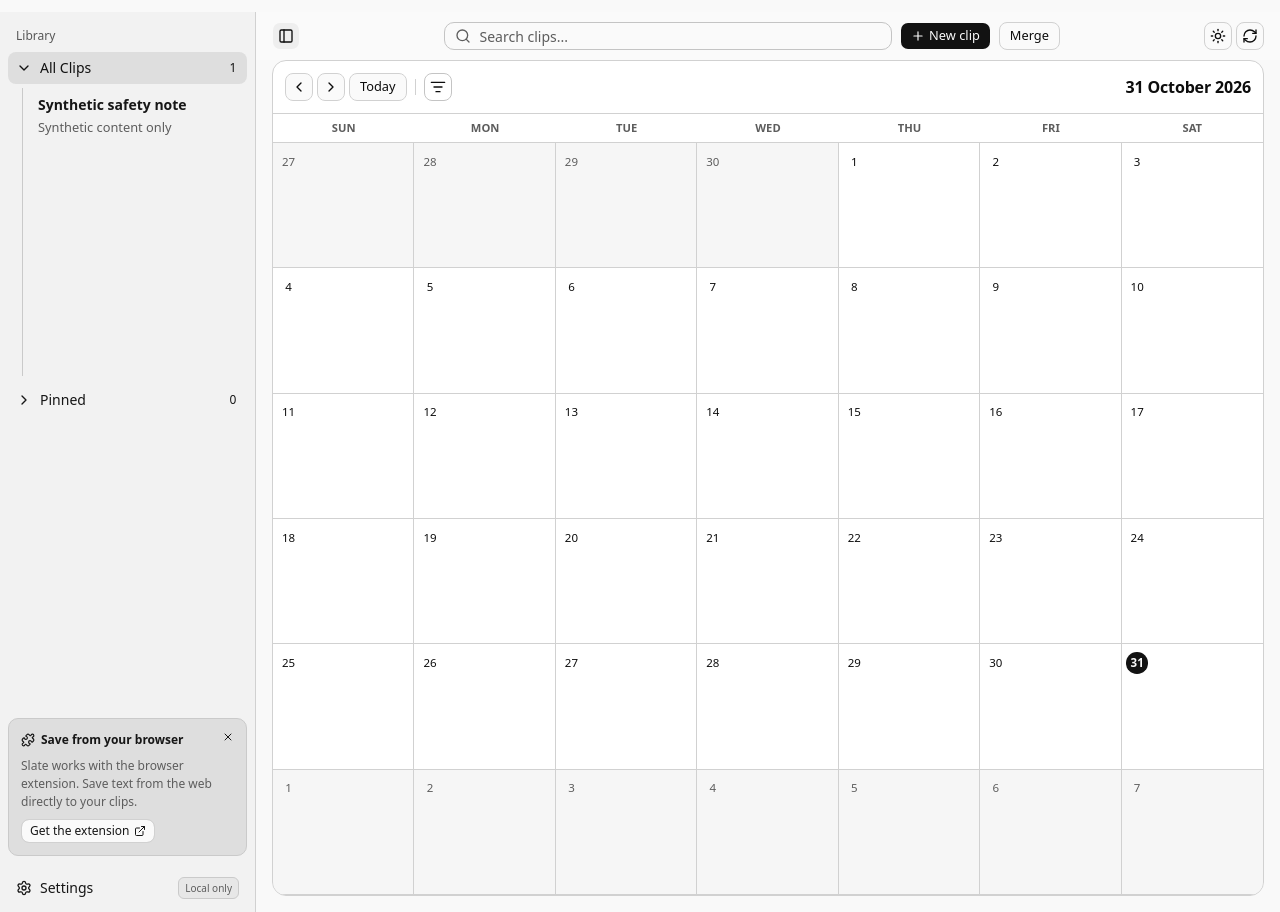
Test: dismissing discovery never discards a failed inline draft or bypasses its lease
Click the button "Synthetic content only": (138, 116) [29, 88, 247, 144]
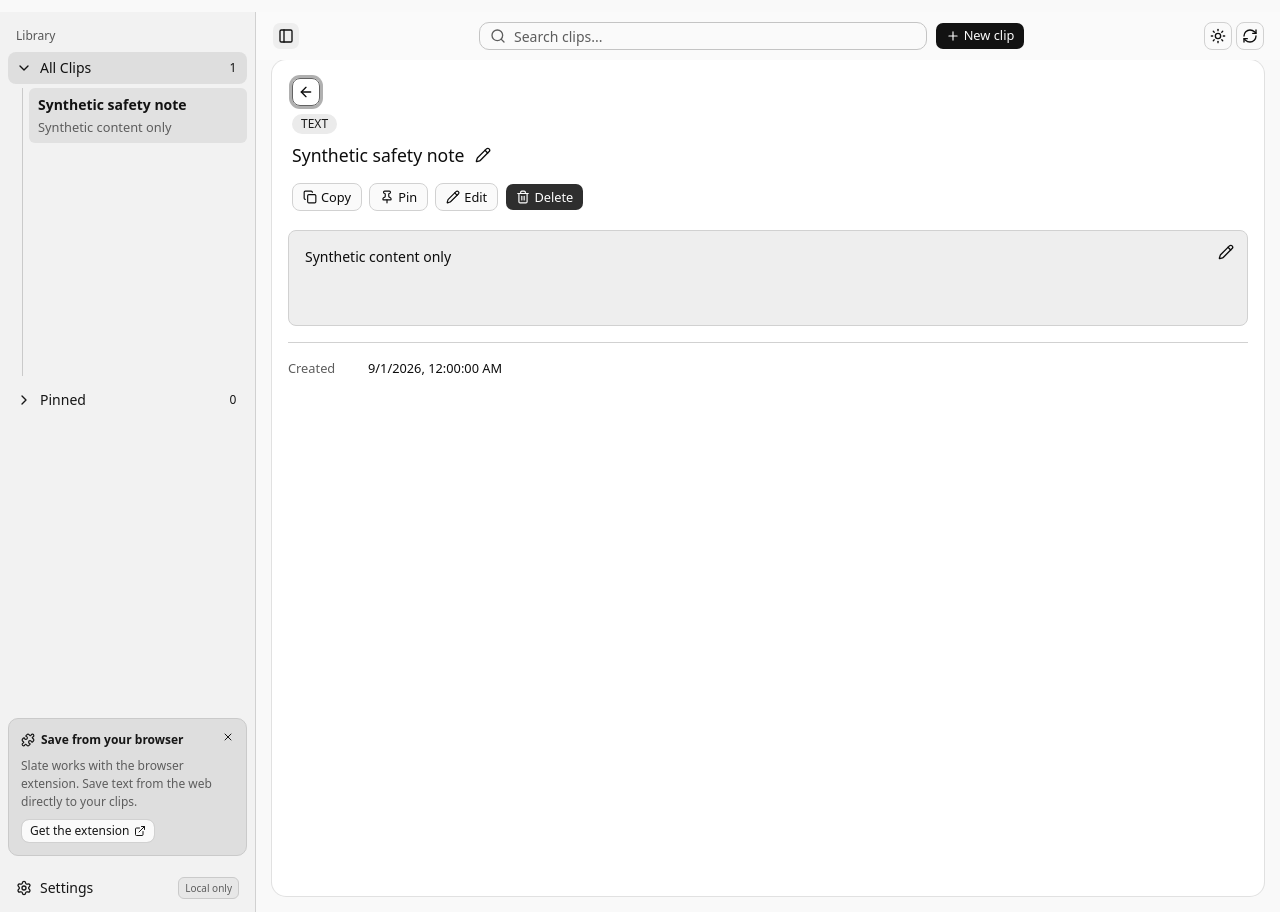
Click the button named "Edit content": (1226, 252) [1212, 238, 1240, 266]
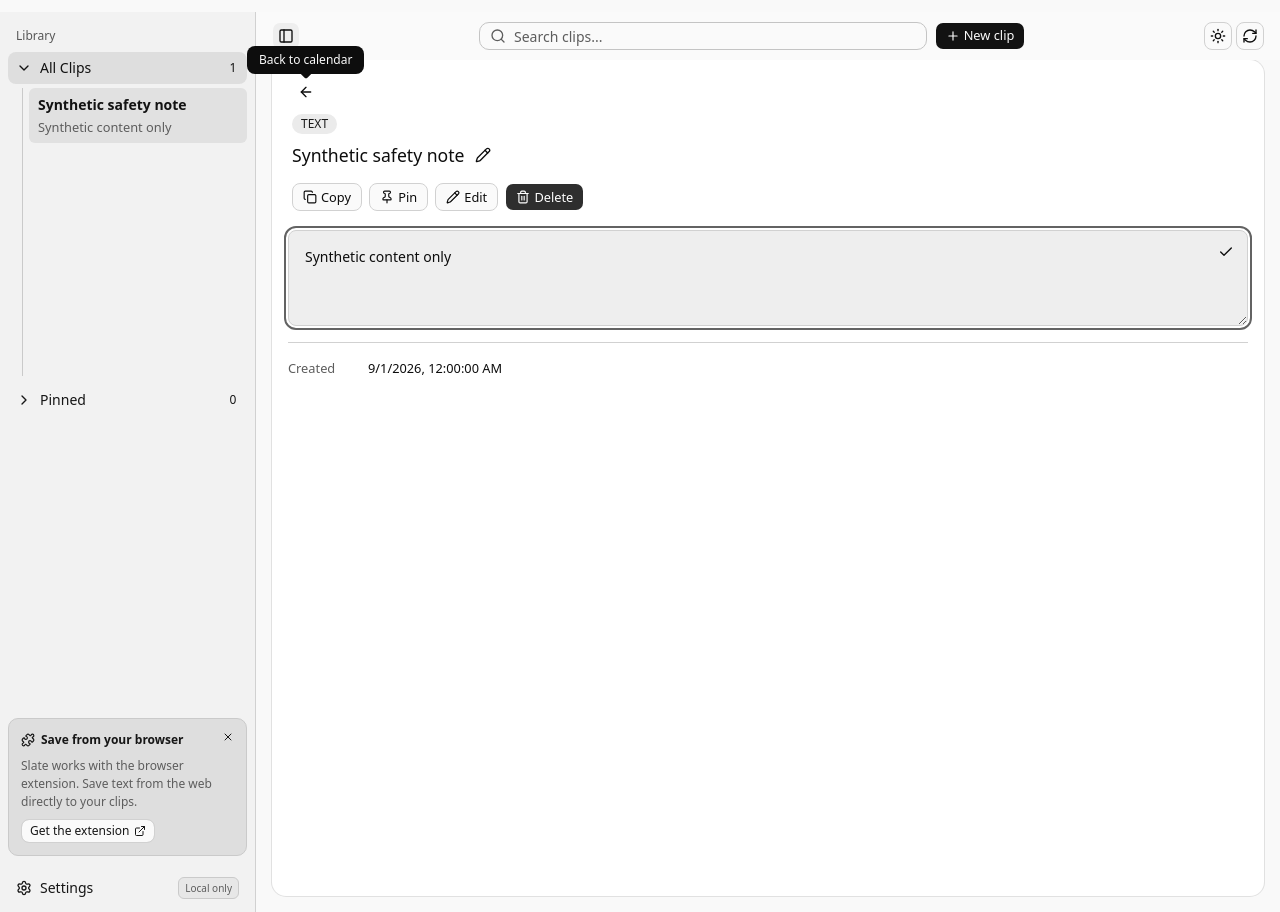
Replace the text in the text box named "Clip content" with "Edited synthetic content": (768, 278) [288, 230, 1248, 326]
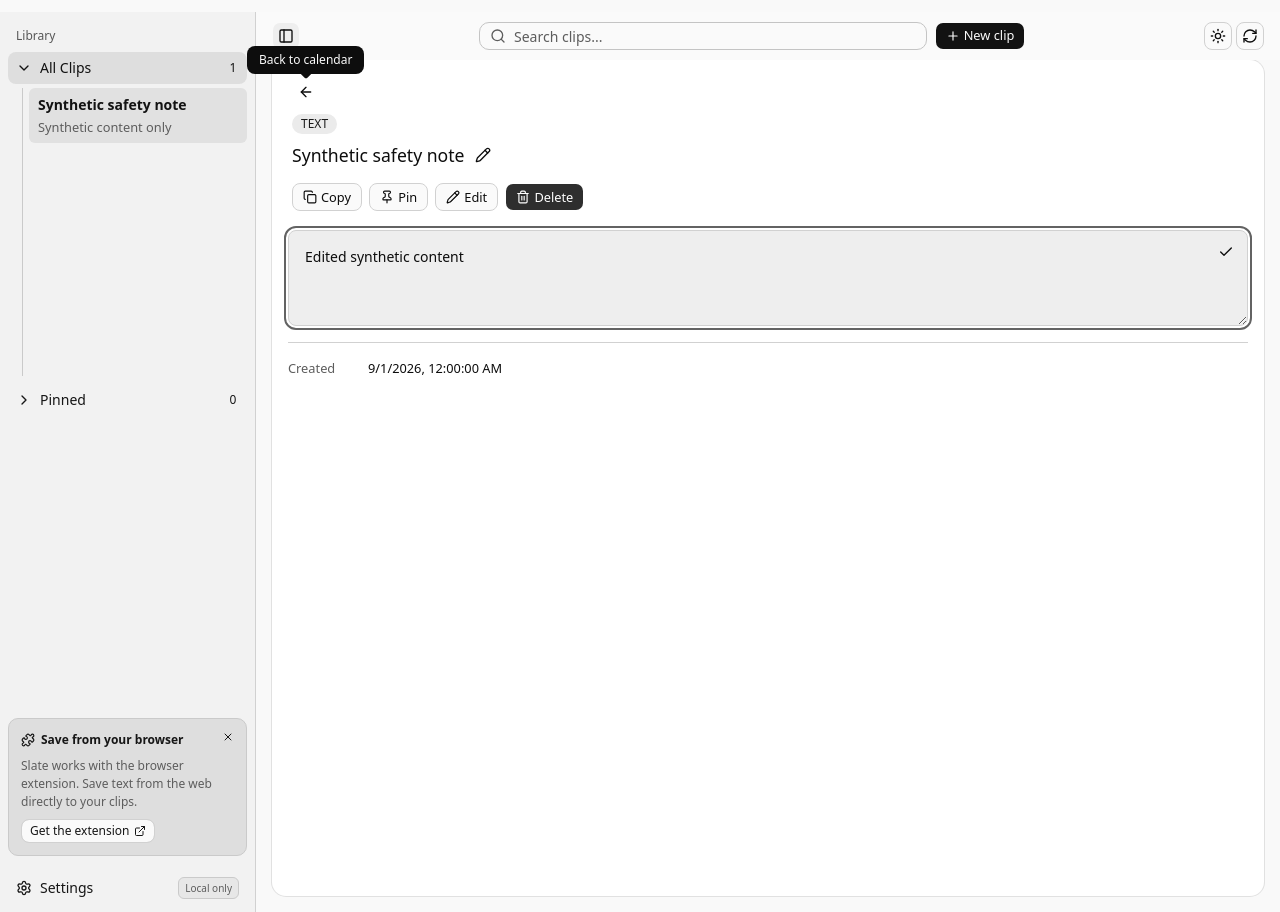
Click the button named "Dismiss extension suggestion": (228, 737) [216, 725, 240, 749]
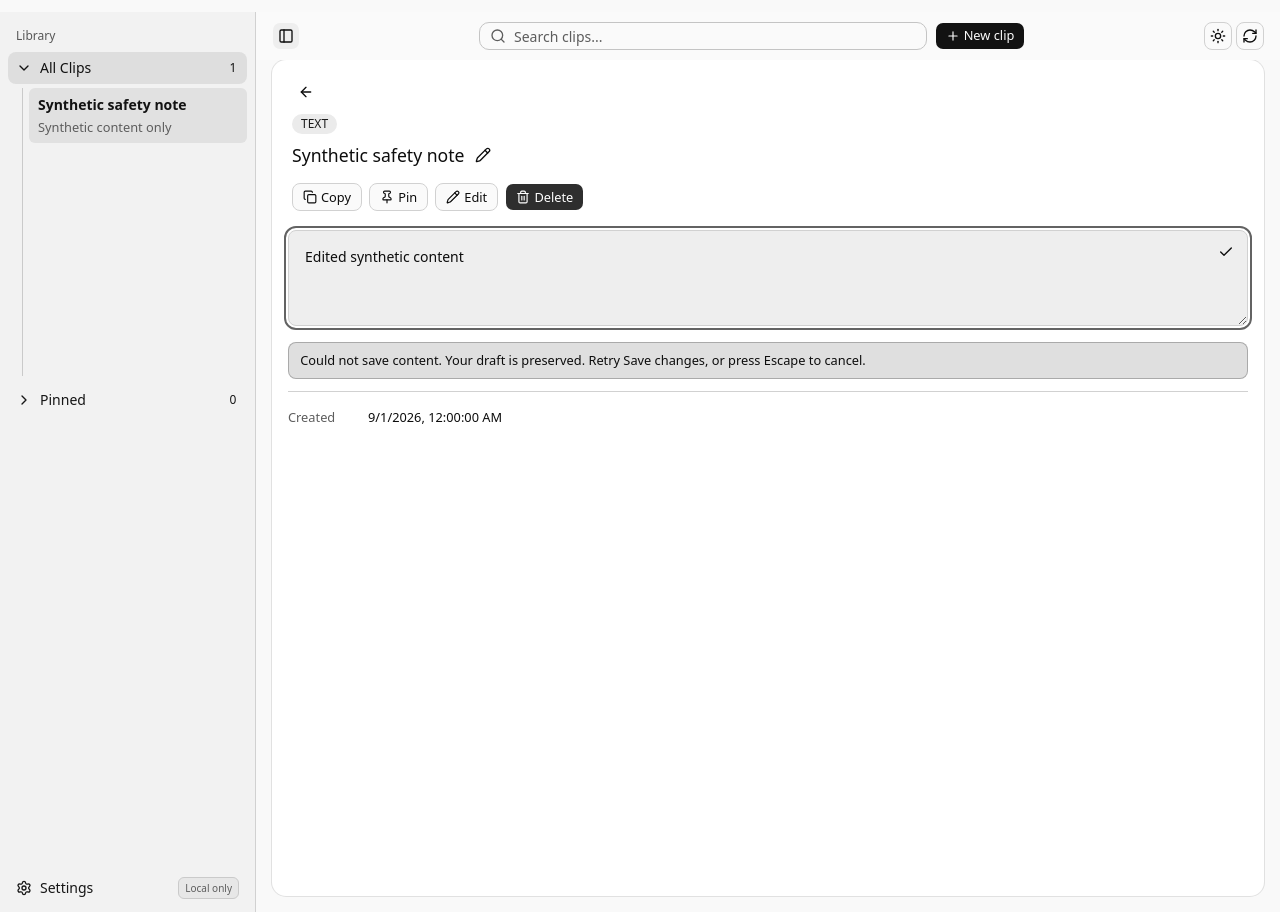
Now the button "Get the extension" is gone
Now the text "Your draft is preserved" is shown, box [300, 351, 866, 369]
